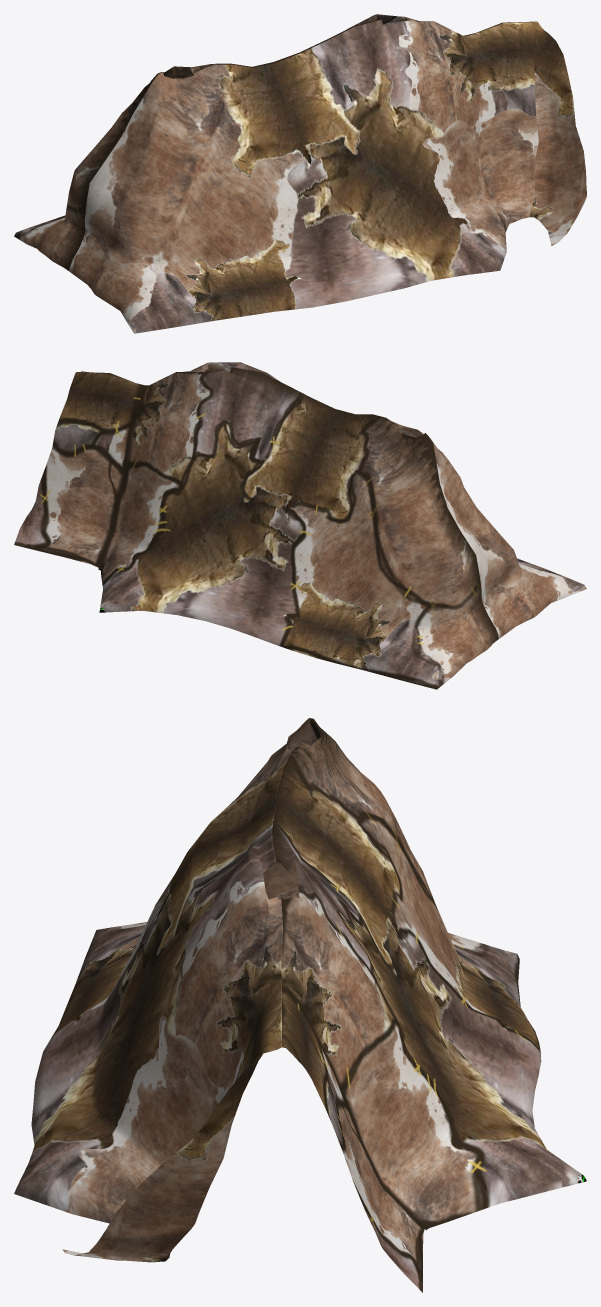
Rendered from Tent_Final.FBX.
3 renders of one model, top to bottom at view 1: azimuth 30°, elevation 25°; view 2: azimuth 150°, elevation 25°; view 3: azimuth 270°, elevation 25°, orthographic. The views are drawn at different scales.
Visible parts, largest first — view 1: tent; view 2: tent; view 3: tent.
Boxes of the visible parts, left/top/right/bottom form: tent: left=14, top=14, right=586, bottom=333; tent: left=14, top=362, right=586, bottom=689; tent: left=14, top=718, right=586, bottom=1292.
Size of the model in its own units: 336 by 136 by 223.
